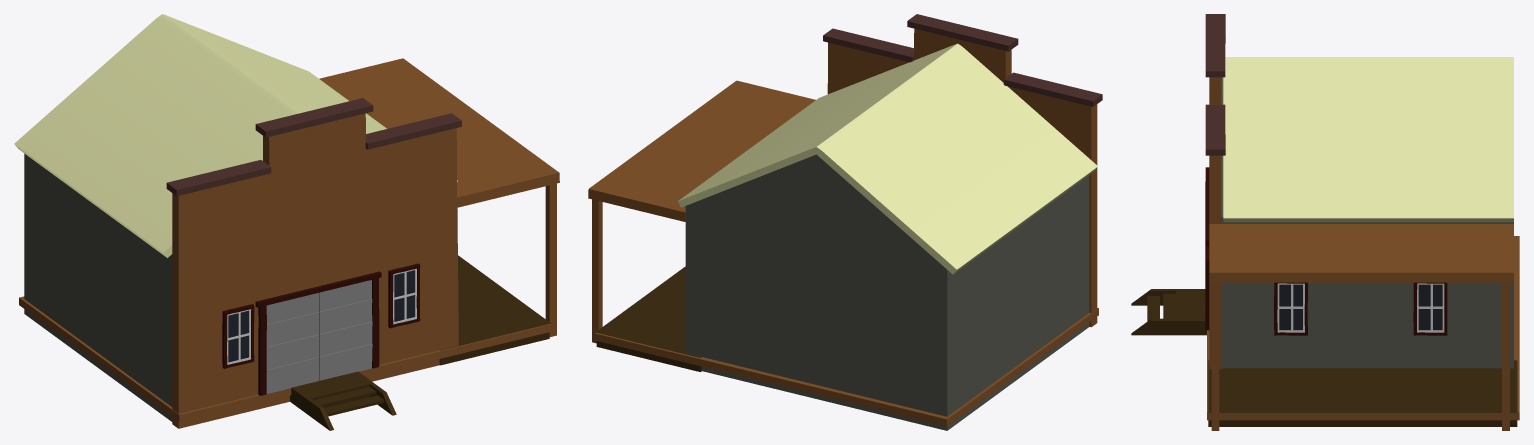
File: Random_House_01.fbx
3 renders of one model, left to right at view 1: azimuth 30°, elevation 25°; view 2: azimuth 150°, elevation 25°; view 3: azimuth 270°, elevation 25°, orthographic. The views are drawn at different scales.
Parts seen in each view (by area): view 1: General_Store.001; view 2: General_Store.001; view 3: General_Store.001.
Boxes of the visible parts, box(x1,y1,x2,y2) form: General_Store.001: box(14, 14, 559, 430); General_Store.001: box(588, 14, 1102, 430); General_Store.001: box(1131, 14, 1519, 430).
Size of the model in its own units: 1077 by 735 by 954.
